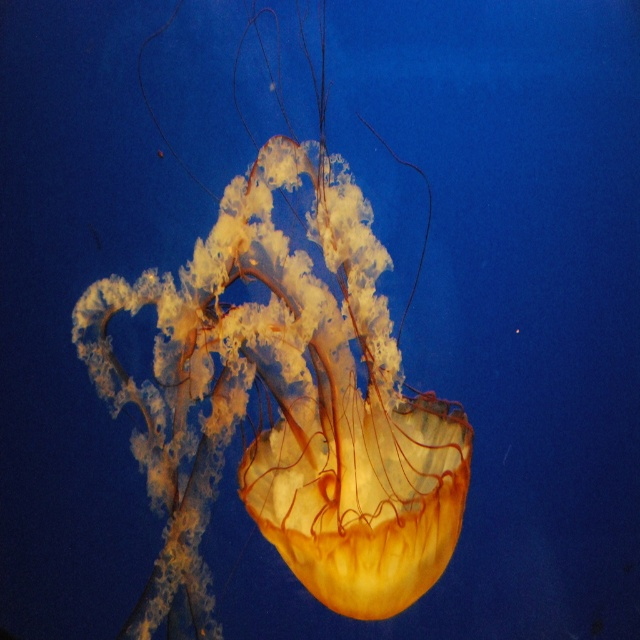Jellyfish: (71, 0, 474, 640)
